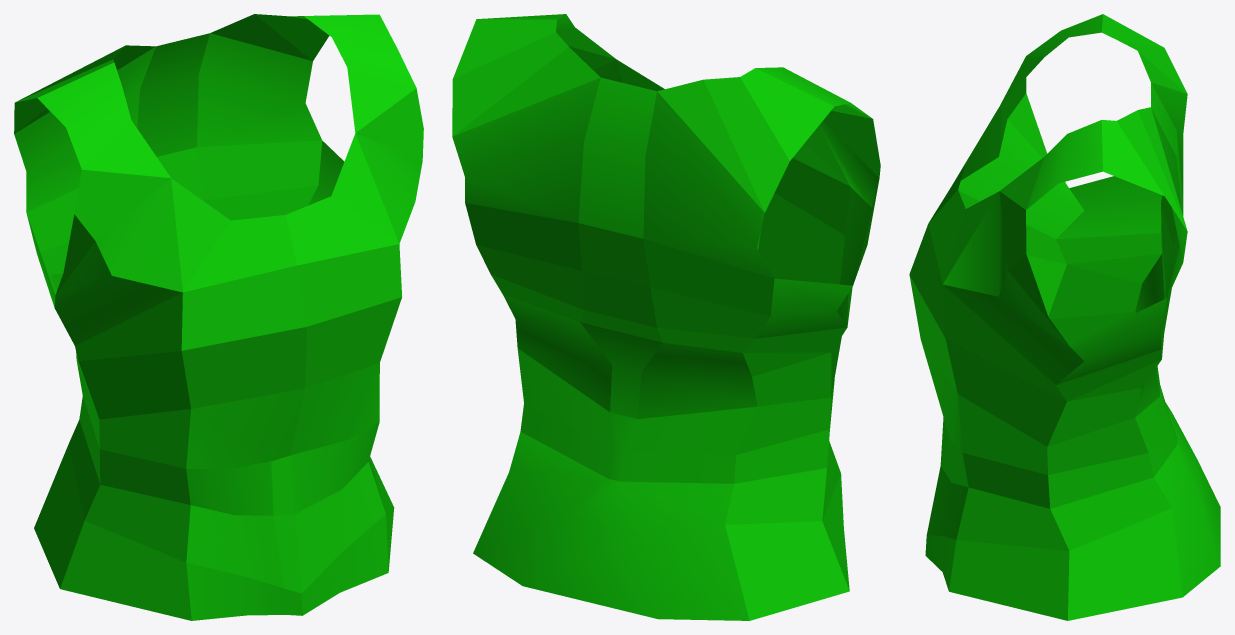
File: Jersey Top.obj
3 views of the same model, side by side, from view 1: azimuth 30°, elevation 25°; view 2: azimuth 150°, elevation 25°; view 3: azimuth 270°, elevation 25° (orthographic). The views are drawn at different scales.
Visible parts, largest first — view 1: GenericMesh3; view 2: GenericMesh3; view 3: GenericMesh3.
Part boxes in pixels (x1,y1,x2,y2): GenericMesh3: (14, 14, 423, 620); GenericMesh3: (452, 14, 880, 620); GenericMesh3: (909, 14, 1220, 620).
Size of the model in its own units: 7.57 by 10.51 by 6.18.
